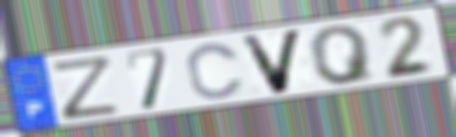2: (374, 14, 437, 81)
7: (124, 46, 171, 112)
C: (184, 41, 247, 102)
Q: (306, 22, 379, 87)
V: (237, 26, 308, 97)
Z: (48, 53, 123, 123)
